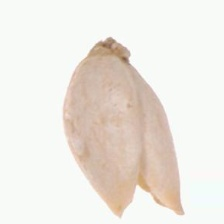L1: (115, 173, 186, 219), (84, 36, 132, 69)
L2: (63, 36, 186, 218)
